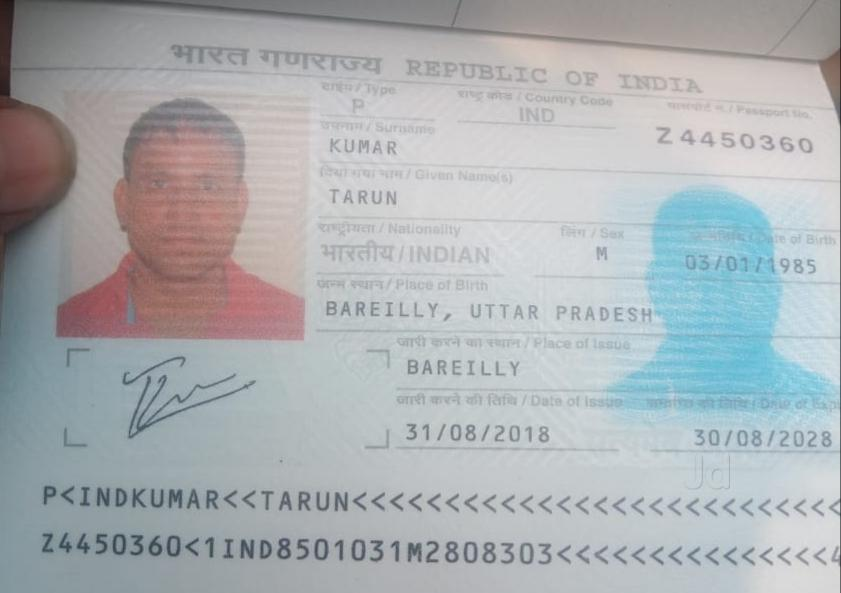DOB: (676, 247, 828, 290)
Surname: (325, 132, 413, 167)
country_code: (507, 102, 569, 134)
date_of_expiry: (678, 413, 841, 460)
date_of_issue: (394, 411, 556, 452)
details: (32, 470, 841, 593)
name: (320, 182, 412, 213)
nationality: (313, 233, 497, 270)
passport_no: (643, 117, 823, 170)
photo: (70, 95, 302, 348)
place_of_birth: (323, 293, 682, 340)
place_of_issue: (396, 348, 528, 384)
sex: (581, 240, 624, 272)
sign: (116, 353, 272, 437)
type: (341, 92, 380, 124)
